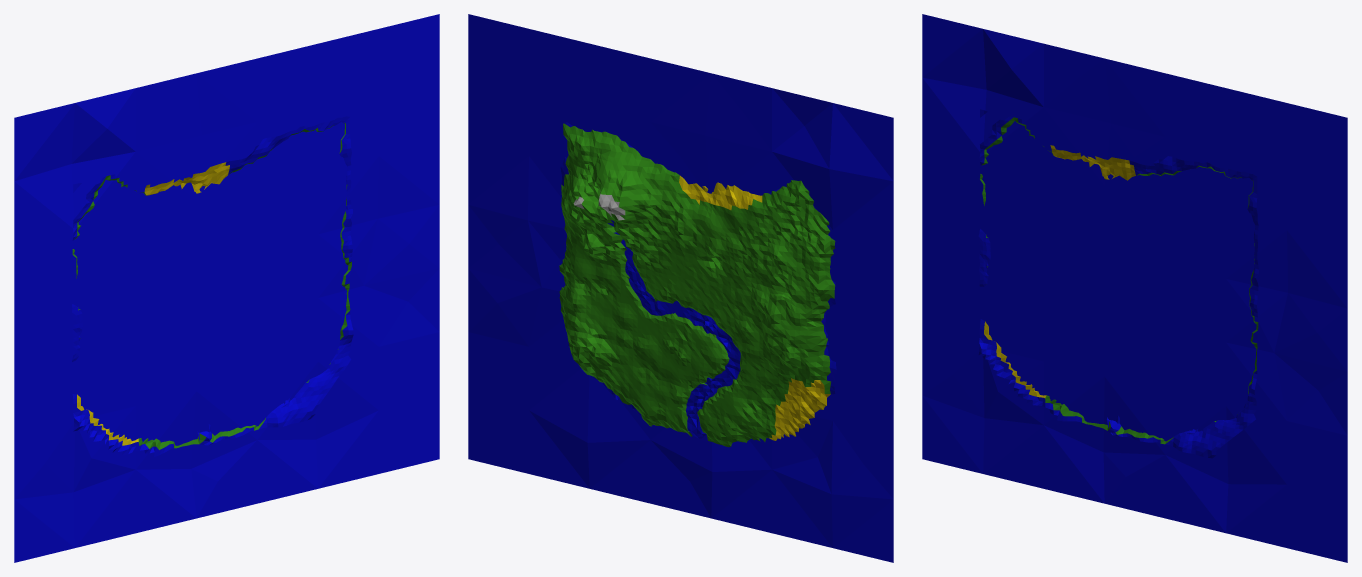
The model's file is island.fbx.
The picture shows the model from 3 angles, left to right: view 1: azimuth 30°, elevation 25°; view 2: azimuth 150°, elevation 25°; view 3: azimuth 330°, elevation 25°; orthographic projection.
Visible parts, largest first — view 1: Plane.001; view 2: Plane.001; view 3: Plane.001.
Boxes of the visible parts, x1,y1,x2,y2 form: Plane.001: [14, 14, 439, 562]; Plane.001: [468, 14, 893, 562]; Plane.001: [922, 14, 1347, 562].
Bounding box in the file's own units: 28891 × 28891 × 3263.
